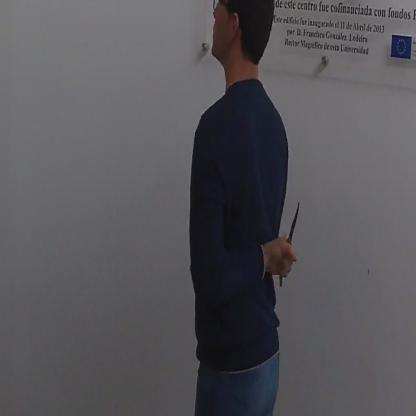knife: (275, 191, 303, 290)
